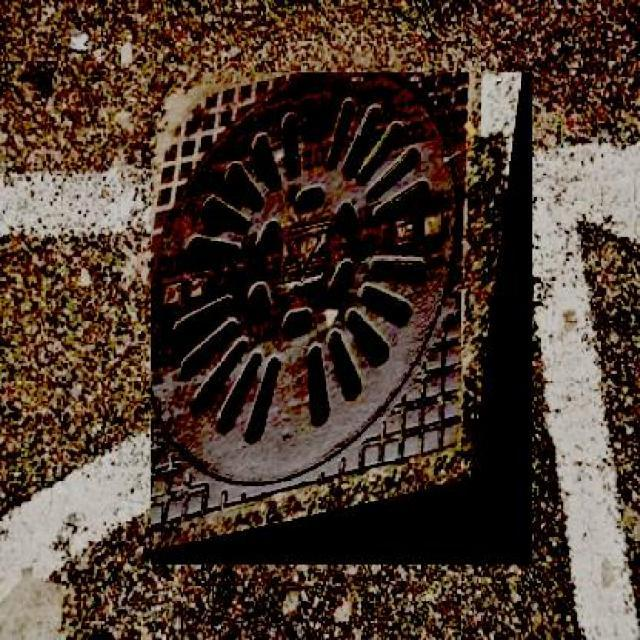Manhole: (150, 72, 532, 565)
